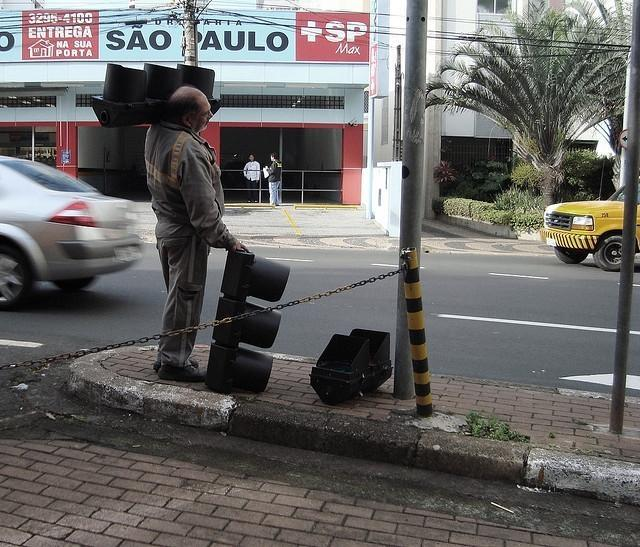car: (0, 156, 146, 312)
truck: (544, 188, 626, 266)
